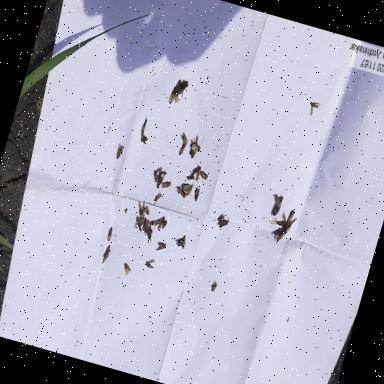pbw: (98, 246, 112, 268), (176, 79, 190, 101), (272, 195, 284, 218), (308, 101, 322, 119), (189, 164, 202, 182), (114, 144, 126, 162), (120, 262, 132, 280), (271, 194, 284, 210), (191, 186, 202, 204), (178, 132, 190, 148), (152, 190, 164, 206), (197, 170, 210, 184), (174, 187, 187, 201), (138, 207, 147, 226), (285, 210, 295, 226), (155, 242, 167, 255), (160, 180, 172, 193), (181, 182, 192, 195), (106, 227, 114, 243), (185, 186, 194, 200), (190, 144, 202, 154)
